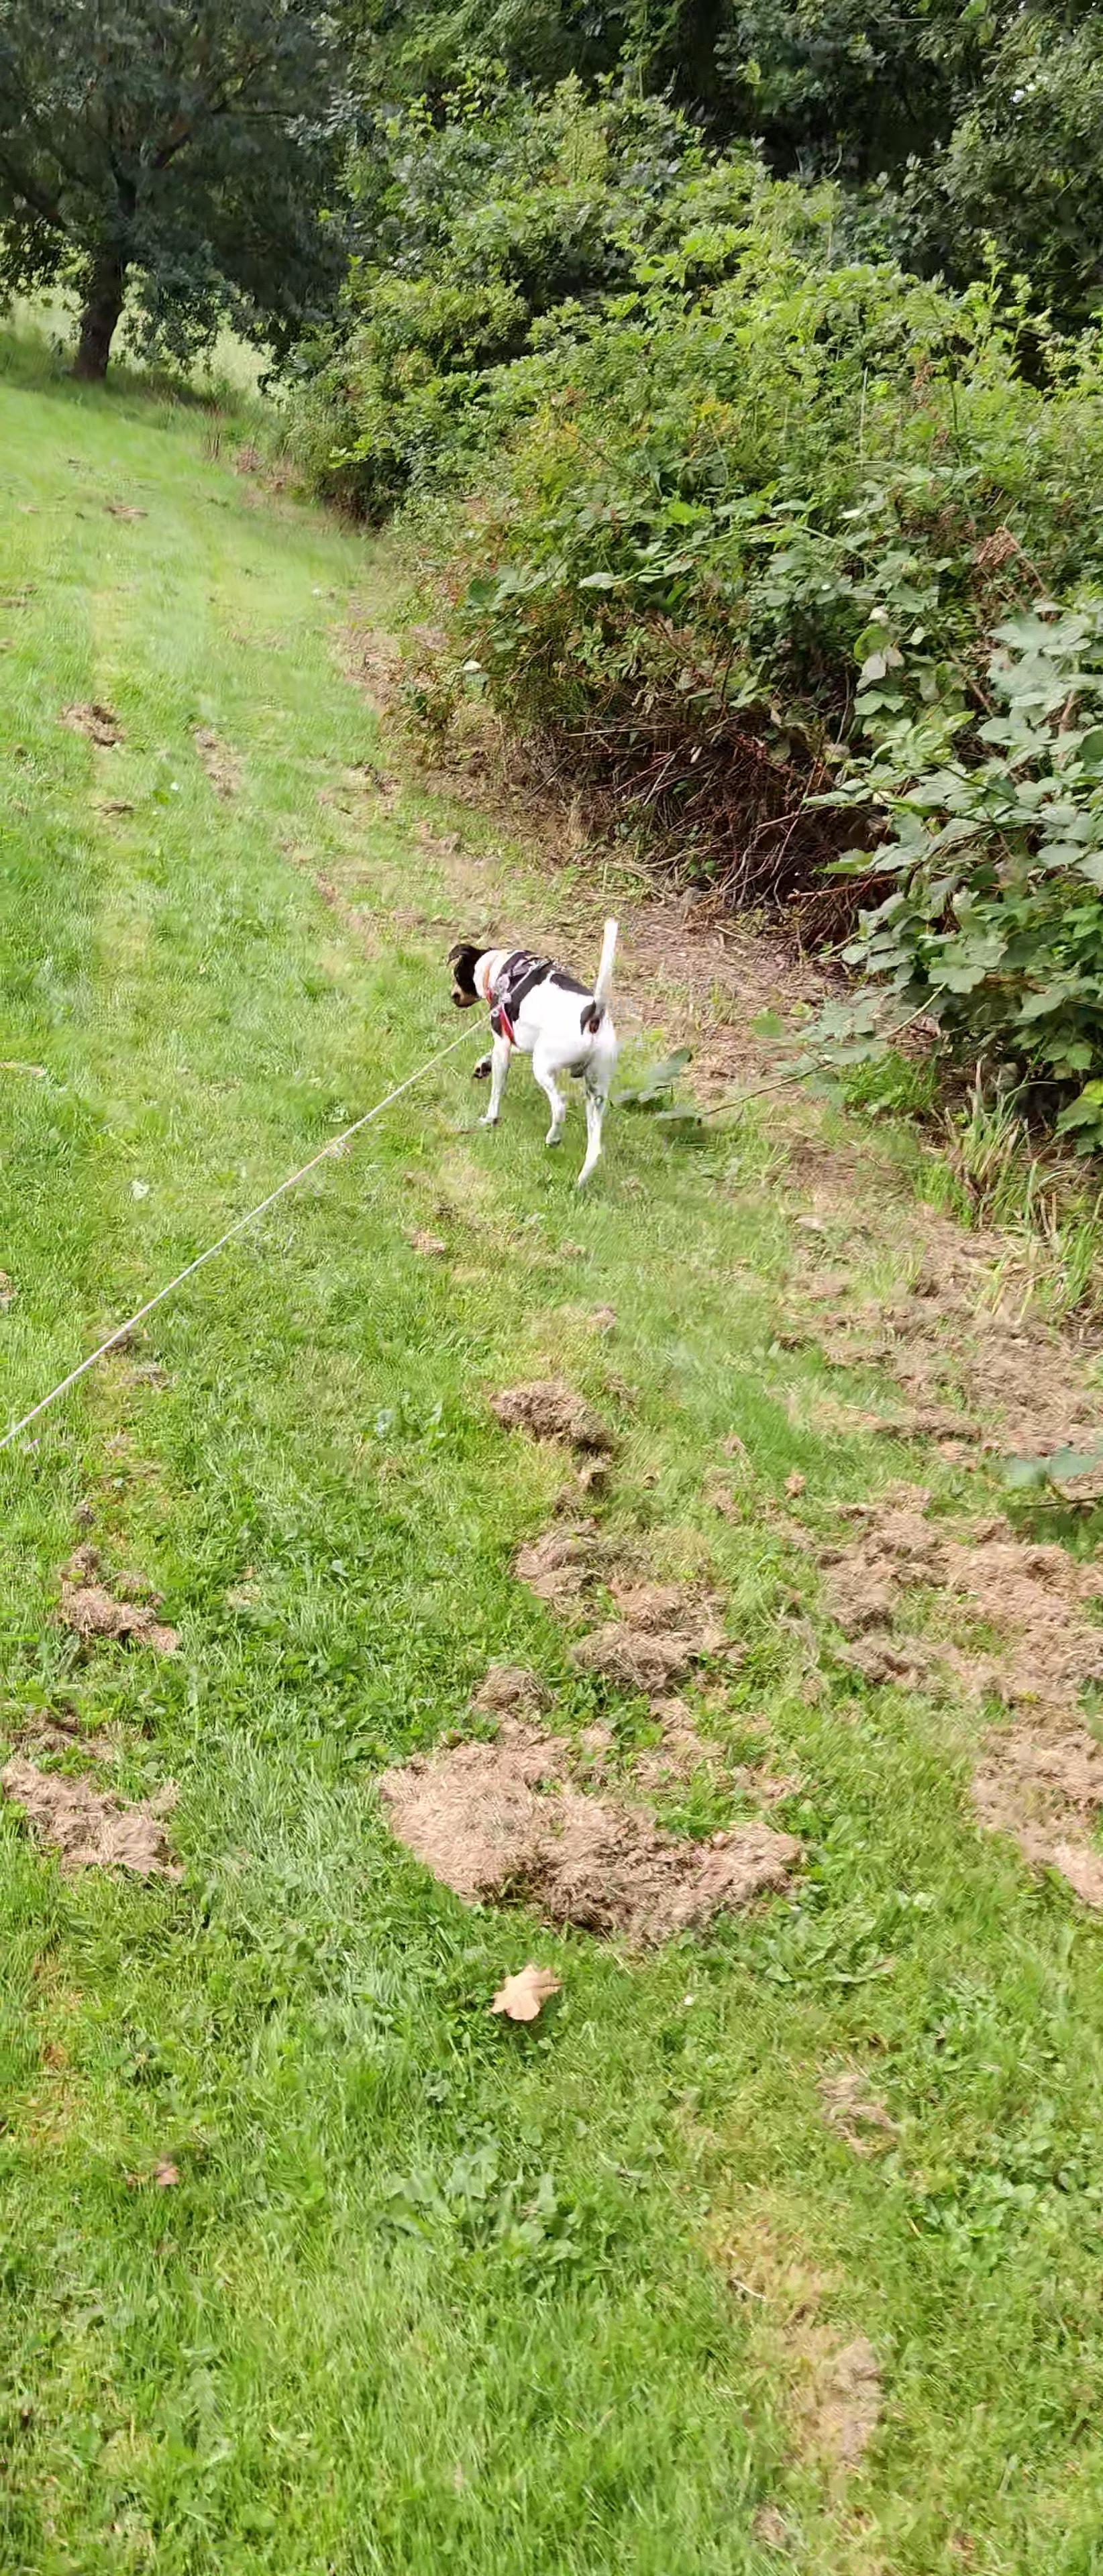Dog: (439, 890, 625, 1188)
